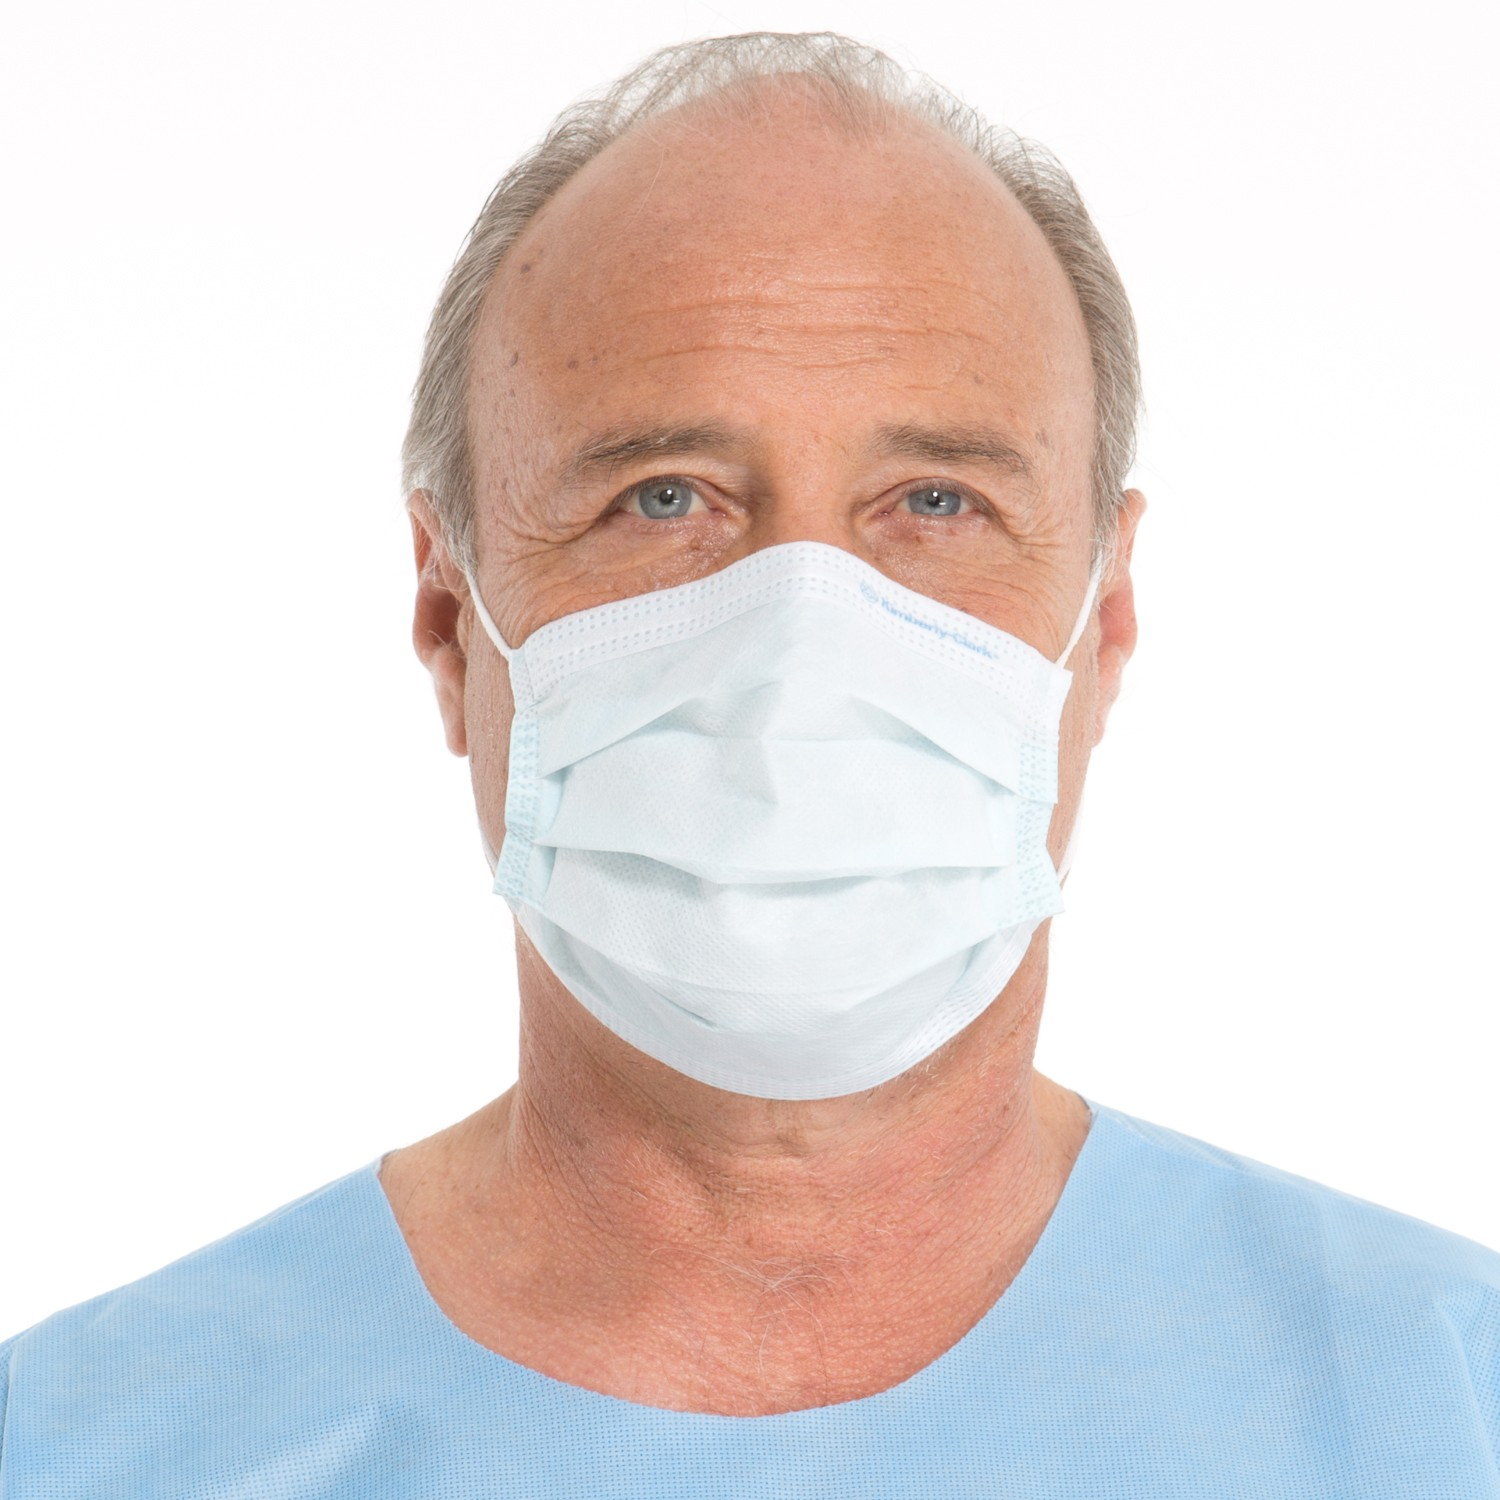mask: (519, 614, 1063, 1054)
